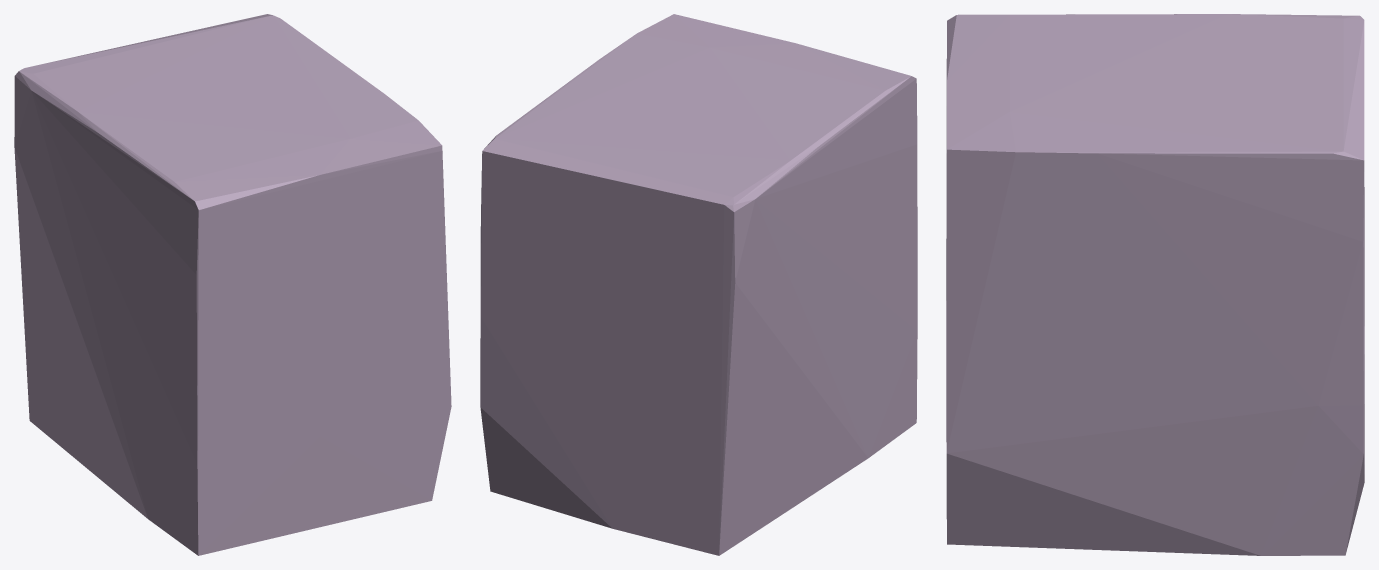
File: box_cardboard_folded_brown_a06.glb
The picture shows the model from 3 angles, left to right: view 1: azimuth 30°, elevation 25°; view 2: azimuth 150°, elevation 25°; view 3: azimuth 270°, elevation 25°; orthographic projection. The views are drawn at different scales.
Visible parts, largest first — view 1: geometry_0; view 2: geometry_0; view 3: geometry_0.
Part boxes in pixels (x1,y1,x2,y2): geometry_0: [14, 14, 451, 555]; geometry_0: [480, 14, 917, 555]; geometry_0: [946, 14, 1364, 555].
Size of the model in its own units: 0.3612 by 0.4766 by 0.4461.
